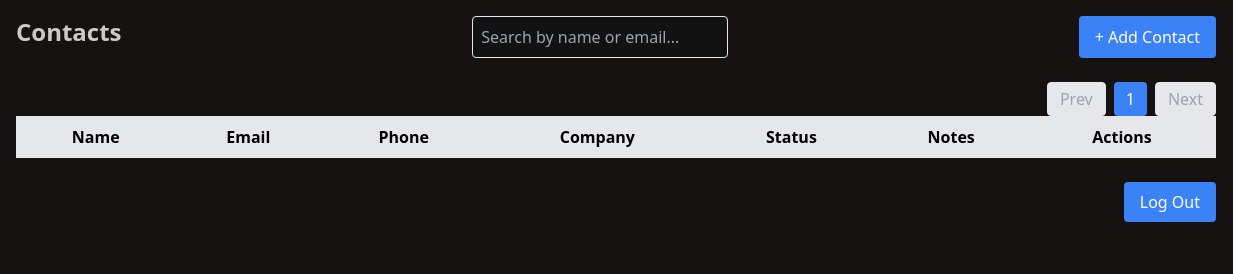
Scenario: HomePage Component › filters contacts by name
Type "John" into the field with placeholder "Search by name or email...".
click(600, 37); type("John")  # box [472,16,728,58]
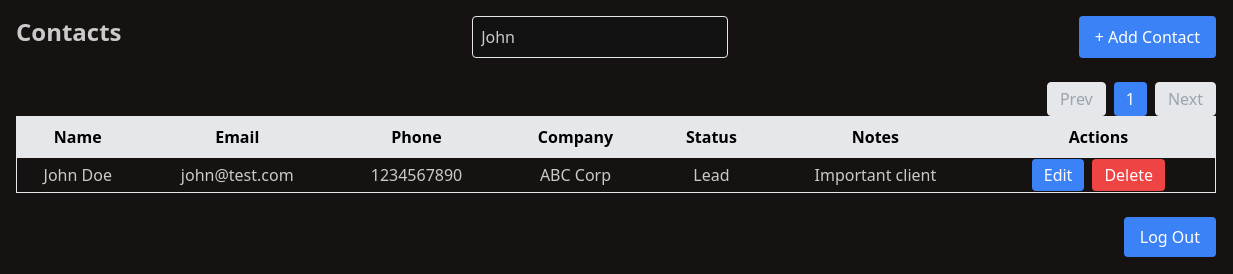
expect the text "John Doe" is shown: met, box [16,158,138,192]
